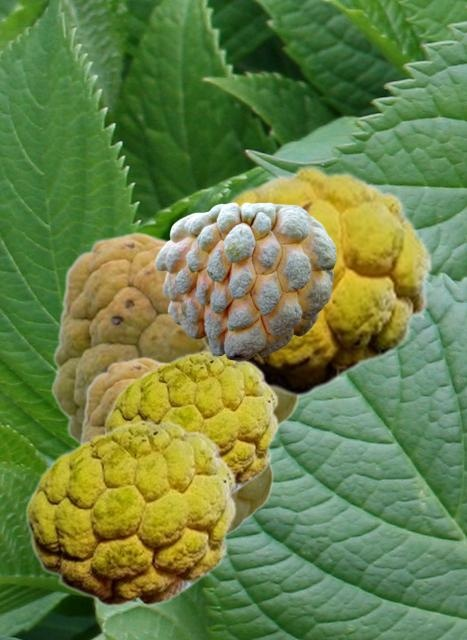atis: (198, 164, 432, 396), (50, 231, 300, 443), (24, 419, 236, 606), (79, 356, 272, 534), (155, 202, 335, 359), (103, 350, 278, 494)
